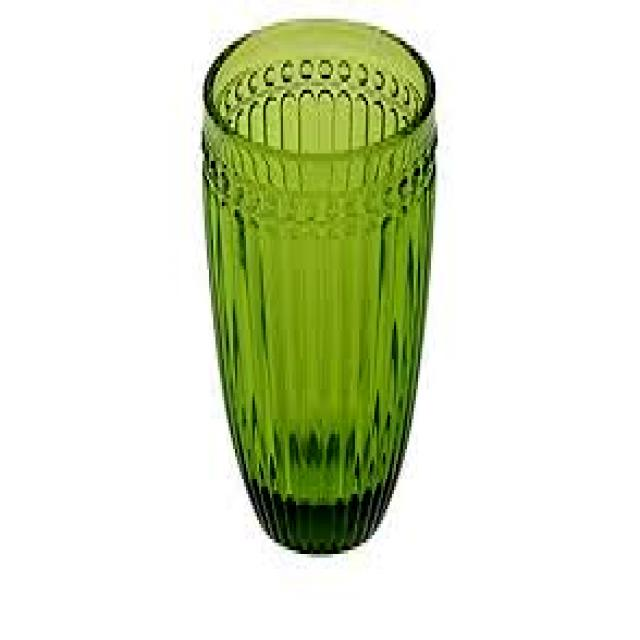Glass: (198, 13, 438, 565)
